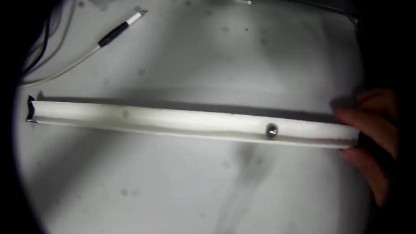gangzhu: (263, 120, 279, 136)
